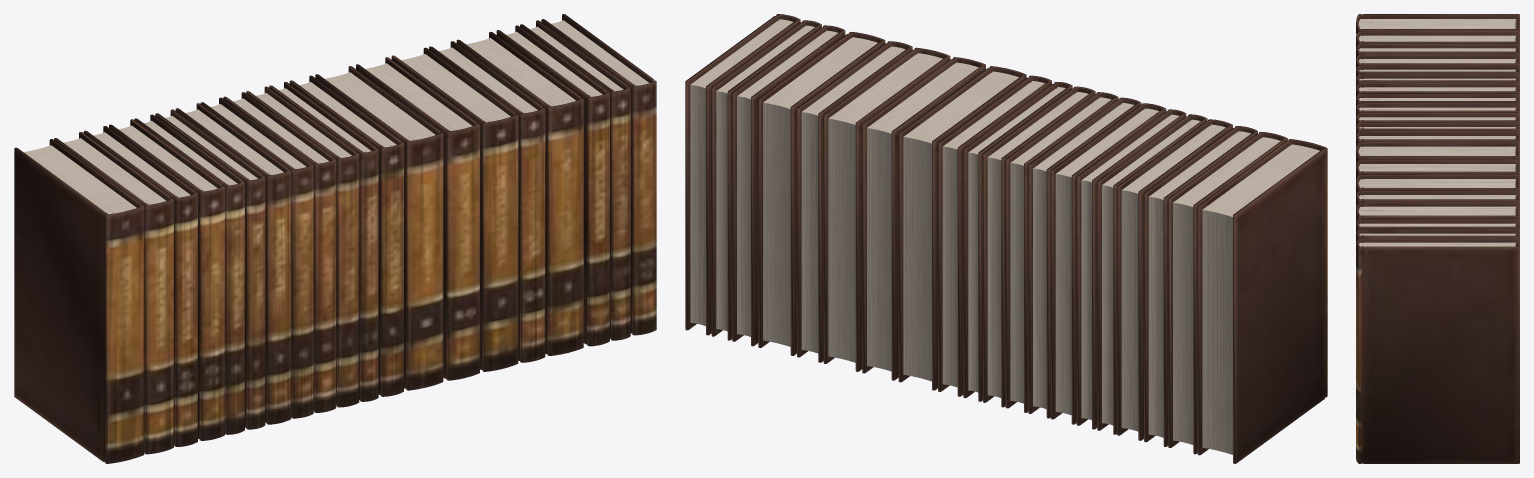
Rendered from books-row.glb.
3 views of the same model, side by side, from view 1: azimuth 30°, elevation 25°; view 2: azimuth 150°, elevation 25°; view 3: azimuth 270°, elevation 25° (orthographic). The views are drawn at different scales.
Parts seen in each view (by area): view 1: book_encyclopedia_set_01_book01; view 2: book_encyclopedia_set_01_book01; view 3: book_encyclopedia_set_01_book01.
Boxes of the visible parts, x1,y1,x2,y2 form: book_encyclopedia_set_01_book01: (14,14,656,463); book_encyclopedia_set_01_book01: (685,14,1327,463); book_encyclopedia_set_01_book01: (1356,14,1519,463).
Size of the model in its own units: 0.5513 by 0.2374 by 0.1631.
2 materials, 2 textured.
